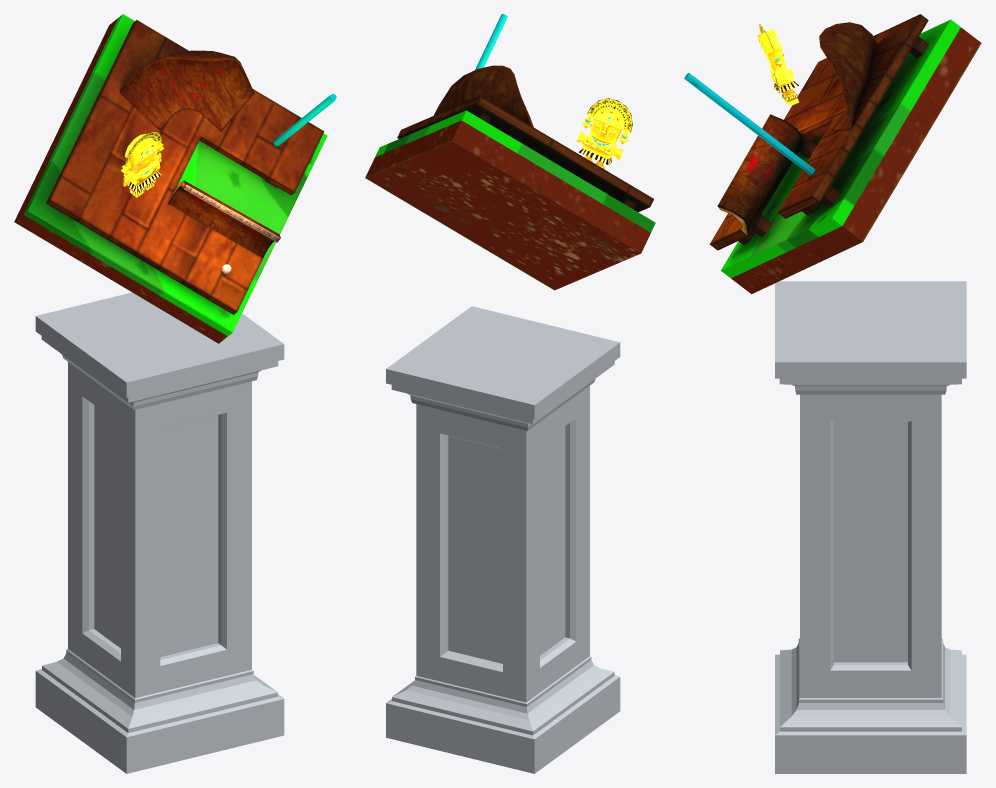
File: land_jungle.gltf
3 renders of one model, left to right at view 1: azimuth 30°, elevation 25°; view 2: azimuth 150°, elevation 25°; view 3: azimuth 270°, elevation 25°, orthographic. The views are drawn at different scales.
Visible parts, largest first — view 1: land_jungle; view 2: land_jungle; view 3: land_jungle.
Part boxes in pixels (x1=…): land_jungle: x1=14, y1=14, x2=336, y2=773; land_jungle: x1=365, y1=14, x2=655, y2=773; land_jungle: x1=684, y1=14, x2=981, y2=773.
Size of what is drawn, in the model's own units: 1.11 by 2.45 by 0.9166.
Materials: 2 (2 with a texture image).
